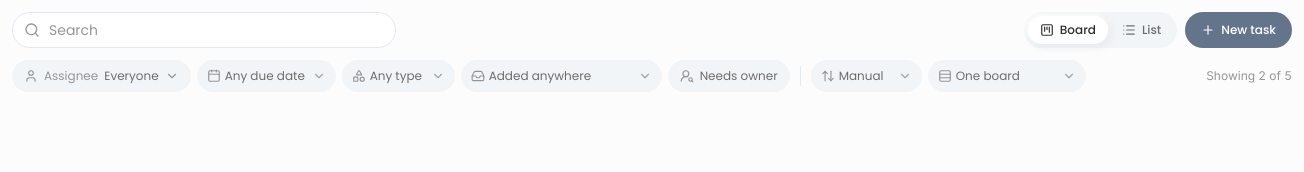
Test: BoardToolbar › board or list, and rows per person on the board only
Select "A row per person" in the dropdown named "Rows" at x=1007, y=76, box [928,60,1086,92]
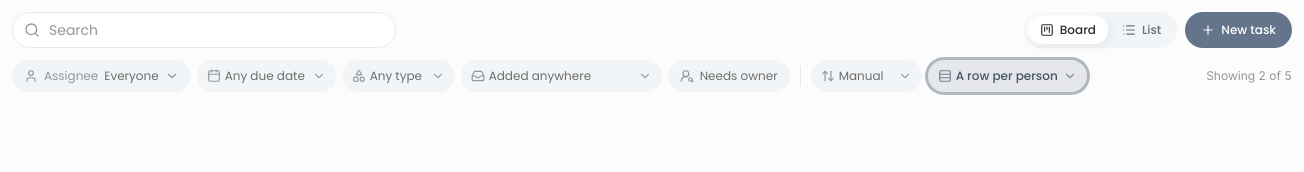
Click the button "List".
click(1142, 30)  # box [1110,16,1173,44]
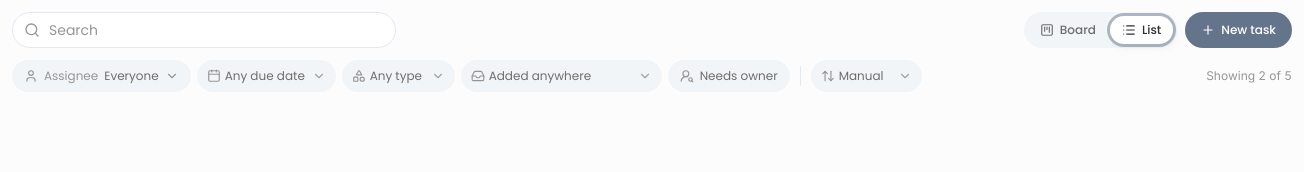
Now the dropdown labelled "Rows" is gone
